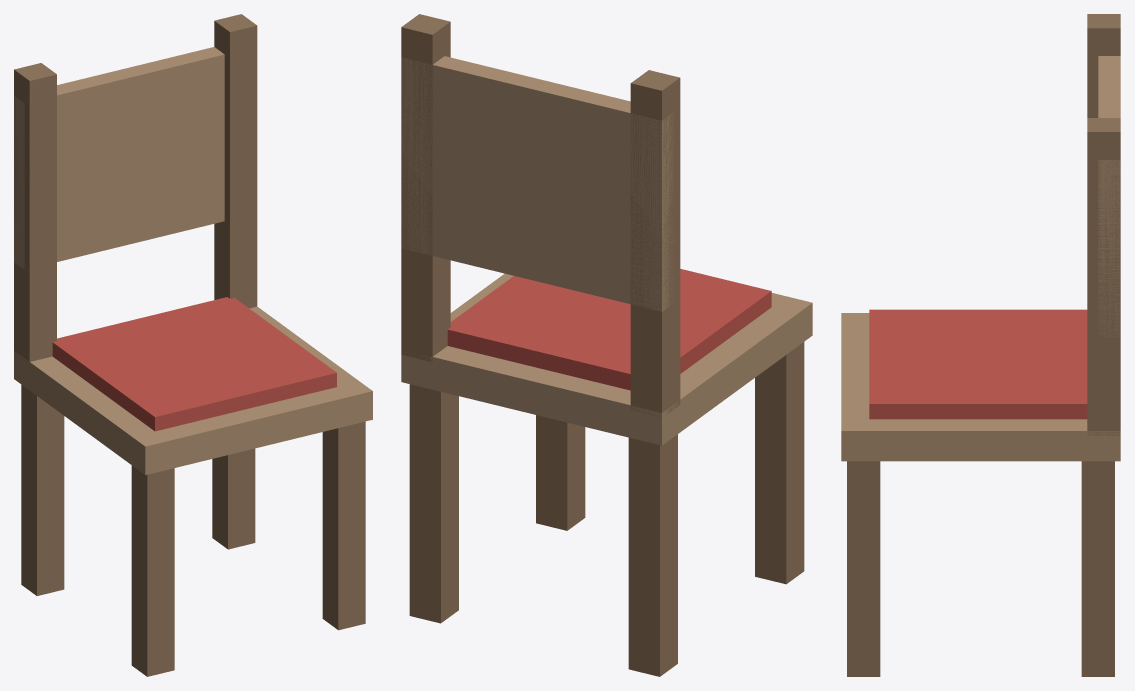
The model's file is chair.glb.
3 renders of one model, left to right at view 1: azimuth 30°, elevation 25°; view 2: azimuth 150°, elevation 25°; view 3: azimuth 270°, elevation 25°, orthographic. The views are drawn at different scales.
Parts seen in each view (by area): view 1: chair_medieval; view 2: chair_medieval; view 3: chair_medieval.
Boxes of the visible parts, box(x1,y1,x2,y2) form: chair_medieval: box(14, 14, 372, 676); chair_medieval: box(401, 14, 812, 676); chair_medieval: box(841, 14, 1120, 676).
Bounding box in the file's own units: 0.5 × 1.08 × 0.5.
